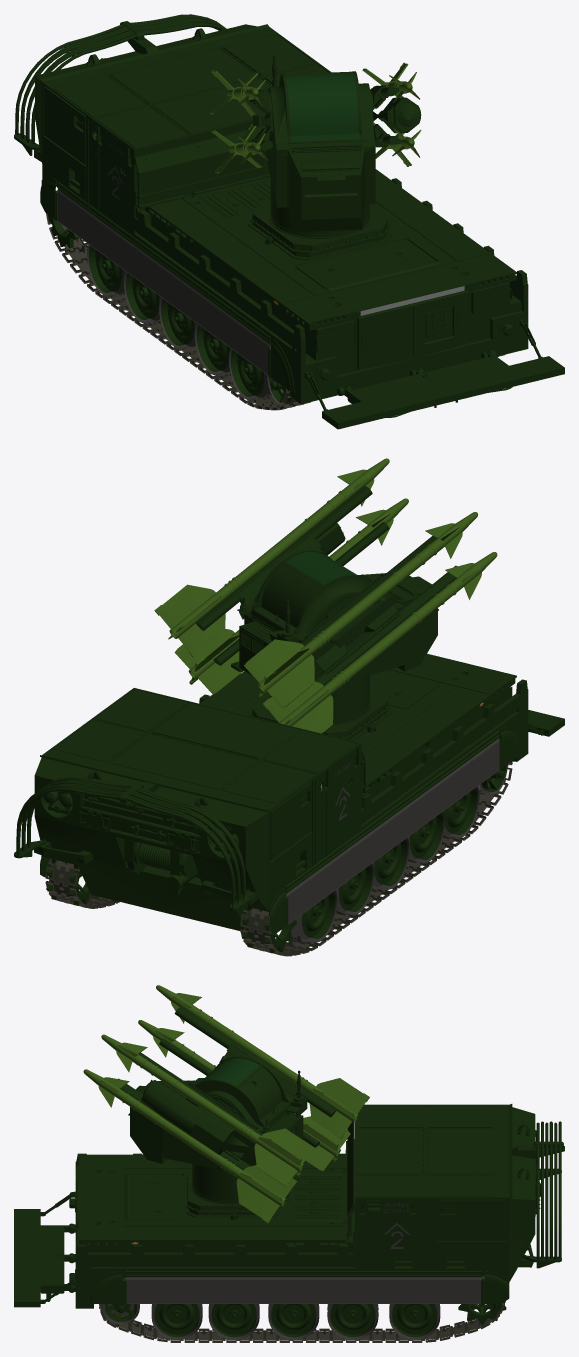
The model's file is AntiAircraftExported.fbx.
3 renders of one model, top to bottom at view 1: azimuth 30°, elevation 25°; view 2: azimuth 150°, elevation 25°; view 3: azimuth 270°, elevation 25°, orthographic. The views are drawn at different scales.
Parts seen in each view (by area): view 1: M730FUSE, Object03, M730BLAC, Object01, M730GLAS, Object02, M730DRAK, M730MISI, M730GRIL; view 2: M730FUSE, M730MISI, Object03, M730BLAC, Object02, M730DRAK, Object01, M730GLAS; view 3: M730FUSE, M730MISI, Object03, M730BLAC, Object01, M730DRAK, Object02, M730GLAS.
Part boxes in pixels (box(x1,y1,x2,y2)): M730FUSE: box(14, 24, 564, 429); Object03: box(247, 55, 421, 231); M730BLAC: box(56, 141, 291, 405); Object01: box(88, 246, 264, 396); M730GLAS: box(285, 73, 359, 141); Object02: box(15, 14, 226, 143); M730DRAK: box(46, 213, 505, 410); M730MISI: box(210, 62, 421, 173); M730GRIL: box(360, 286, 464, 315); M730FUSE: box(14, 653, 564, 953); M730MISI: box(154, 458, 497, 733); Object03: box(195, 485, 457, 685); M730BLAC: box(286, 738, 507, 942); Object02: box(16, 777, 246, 907); M730DRAK: box(45, 761, 512, 956); Object01: box(302, 788, 477, 938); M730GLAS: box(285, 551, 385, 600); M730FUSE: box(14, 1104, 564, 1325); M730MISI: box(83, 985, 369, 1223); Object03: box(118, 1006, 336, 1170); M730BLAC: box(102, 1203, 481, 1339); Object01: box(154, 1304, 437, 1337); M730DRAK: box(99, 1276, 505, 1342); Object02: box(533, 1121, 563, 1259); M730GLAS: box(183, 1058, 259, 1098).
Size of the model in its own units: 81.75 by 101 by 189.
